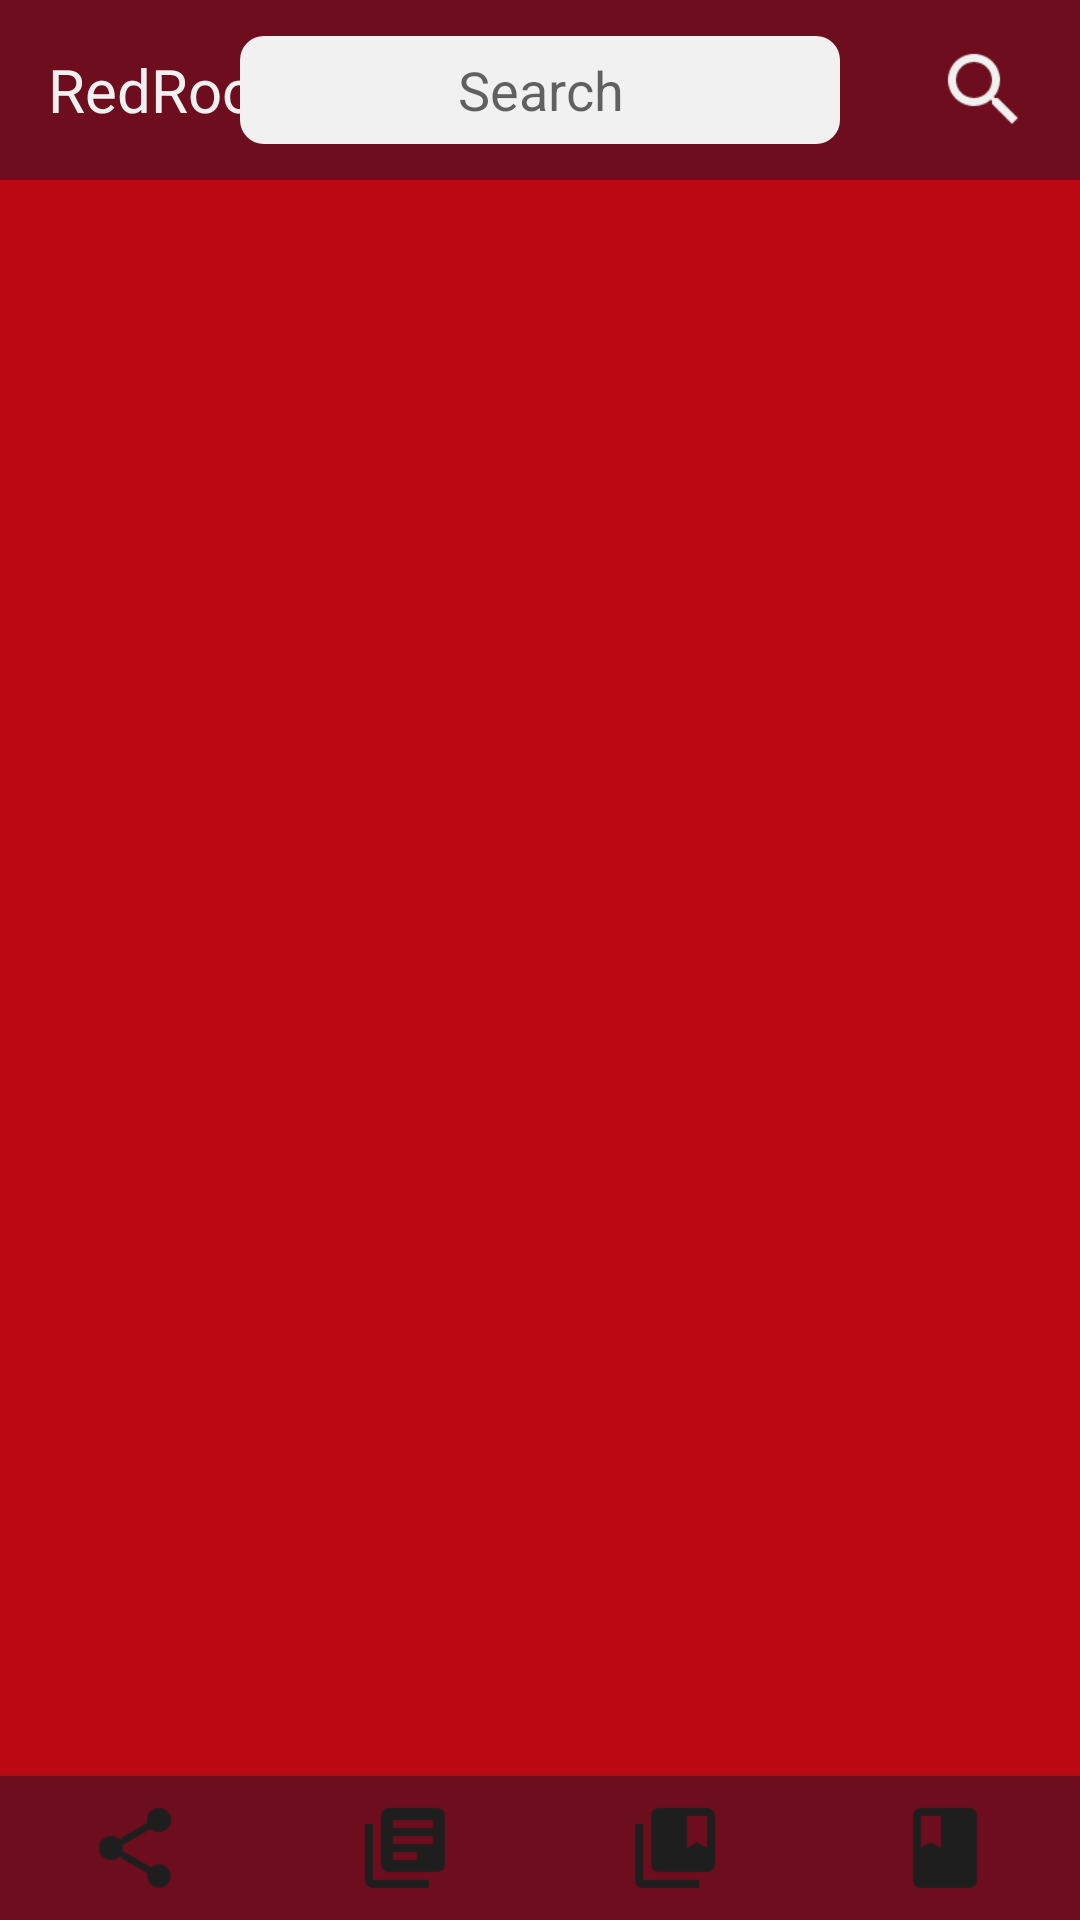

Screen size 1080w x 1920h. Icon name, then its center in pixels as [x,y]:
Borrowed Books: [945,1848]
Browse: [405,1848]
My Collection: [675,1848]
share: [135,1848]
